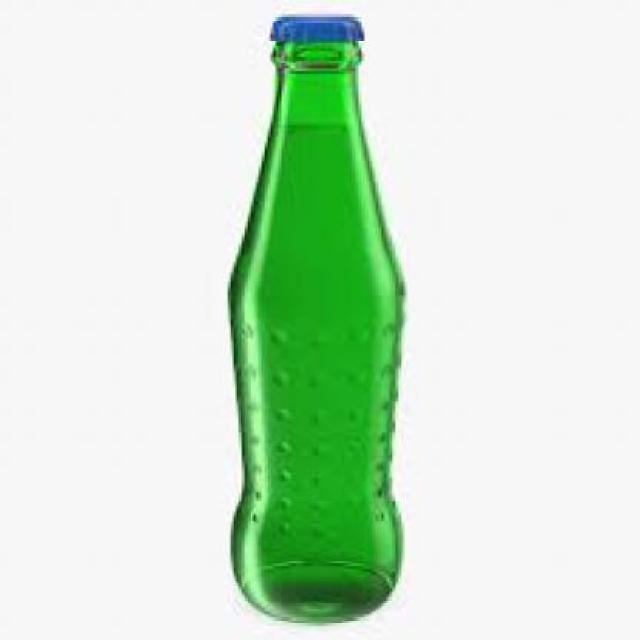GLASS: (228, 37, 402, 620)
METAL: (268, 12, 362, 34)
